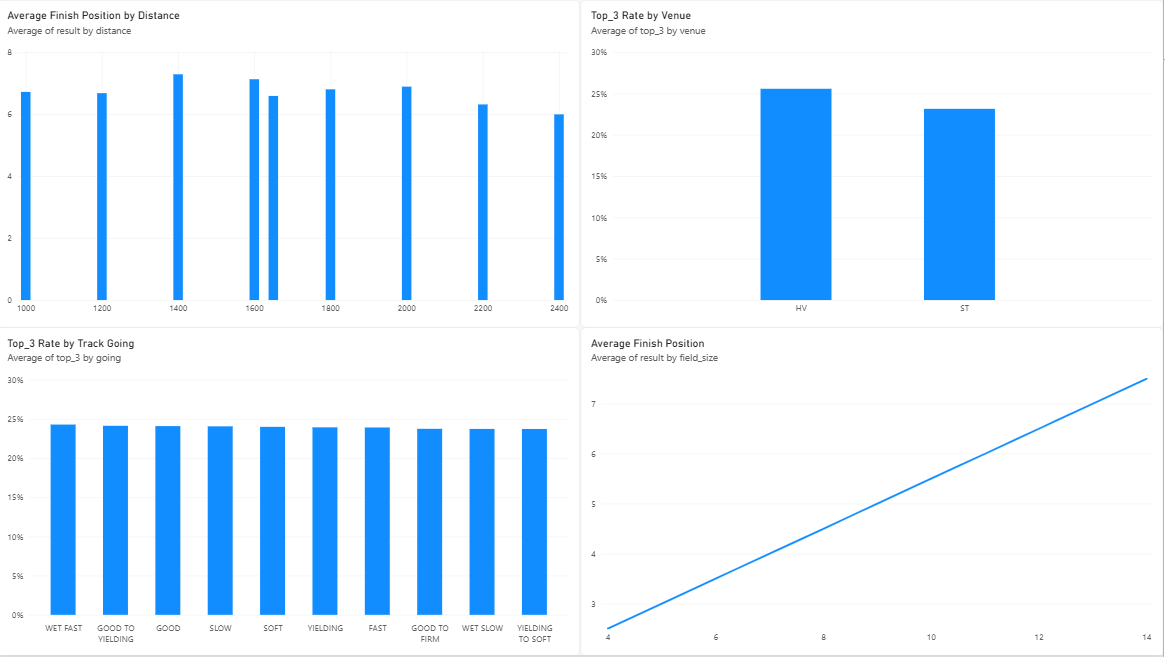

What the dashboard file says about the page in this screenshot:
{"tool":"powerbi","page":{"name":"Race Conditions","canvas":[1920,1080],"ordinal":3},"visuals":[{"type":"clusteredColumnChart","title":"Average Finish Position by Distance","fields":{"Category":["powerbi_data.distance"],"Y":["Avg(powerbi_data.result)"]},"box":[0,0,959.2,539.3],"z":0},{"type":"clusteredColumnChart","title":"Top_3 Rate by Venue","fields":{"Category":["powerbi_data.venue"],"Y":["Avg(powerbi_data.top_3)"]},"box":[961.2,0,959.2,539.3],"z":1000},{"type":"clusteredColumnChart","title":"Top_3 Rate by Track Going","fields":{"Category":["powerbi_data.going"],"Y":["Avg(powerbi_data.top_3)"]},"box":[0,539.3,959.2,541.3],"z":2000},{"type":"lineChart","title":"Average Finish Position ","fields":{"Category":["powerbi_data.field_size"],"Y":["Avg(powerbi_data.result)"]},"box":[961,539,959,541],"z":3000}]}

Visuals, with their boxes in screenshot pixels (x1, y1, x2, y2), scaled from the page's 1920x1080 canvas onto the 1165x657 screenshot:
"Average Finish Position by Distance" clusteredColumnChart: select_region(0, 0, 582, 328)
"Top_3 Rate by Venue" clusteredColumnChart: select_region(583, 0, 1164, 328)
"Top_3 Rate by Track Going" clusteredColumnChart: select_region(0, 328, 582, 656)
"Average Finish Position " lineChart: select_region(583, 328, 1164, 656)
